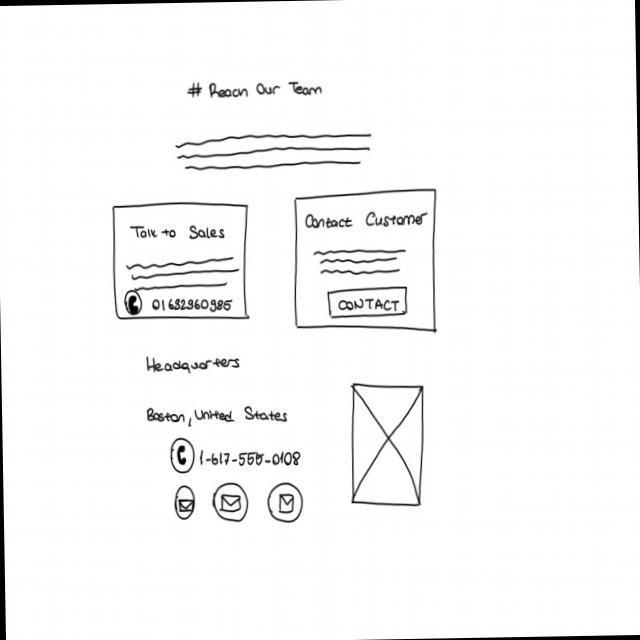button: (328, 286, 410, 321)
container: (293, 187, 441, 335), (112, 199, 252, 323)
icon-button: (213, 481, 250, 524), (267, 481, 304, 524), (170, 437, 197, 475), (175, 485, 197, 522), (124, 290, 143, 318)
image: (349, 383, 427, 510)
label: (145, 402, 291, 432), (185, 79, 326, 103), (305, 210, 431, 231), (200, 447, 304, 470), (145, 353, 242, 376), (130, 223, 228, 243), (151, 295, 236, 315)
text: (175, 132, 374, 174), (126, 256, 241, 293), (313, 247, 408, 277)
